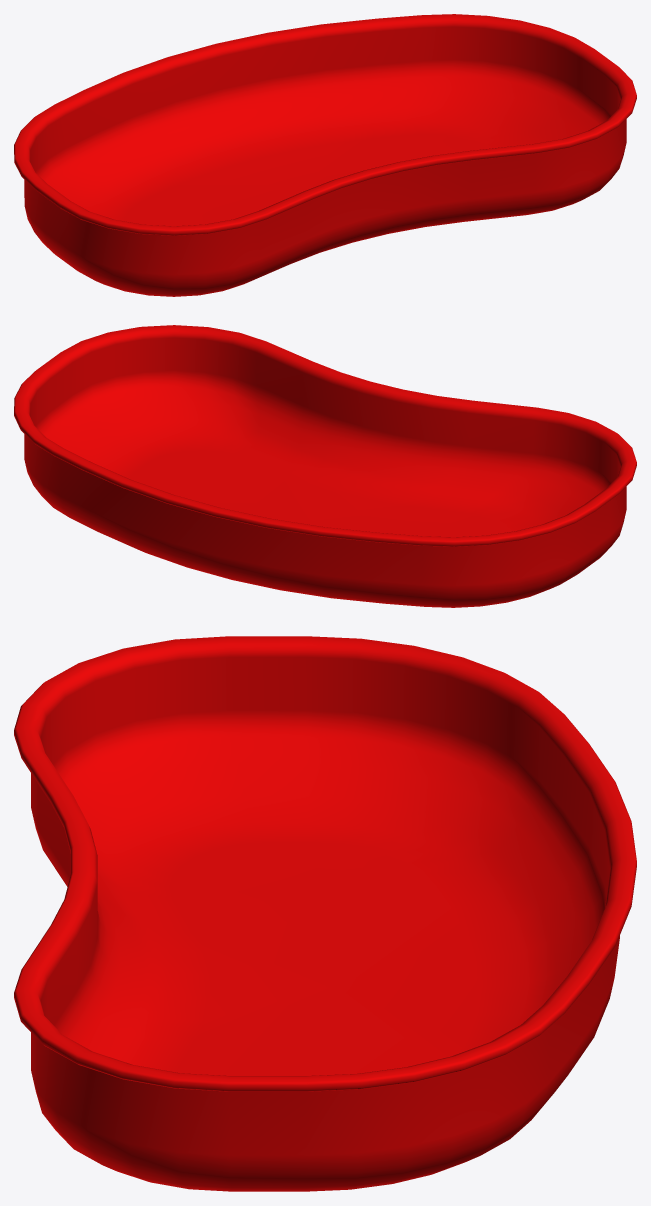
Rendered from Medical_bowl_1.fbx.
The picture shows the model from 3 angles, top to bottom: view 1: azimuth 30°, elevation 25°; view 2: azimuth 150°, elevation 25°; view 3: azimuth 270°, elevation 25°; orthographic projection. The views are drawn at different scales.
Visible parts, largest first — view 1: L30:pCube290; view 2: L30:pCube290; view 3: L30:pCube290.
Part boxes in pixels (left/top/right/bottom): L30:pCube290: left=14, top=14, right=636, bottom=296; L30:pCube290: left=14, top=325, right=636, bottom=607; L30:pCube290: left=14, top=636, right=636, bottom=1191.
Bounding box in the file's own units: 49.83 × 7.13 × 29.3.
